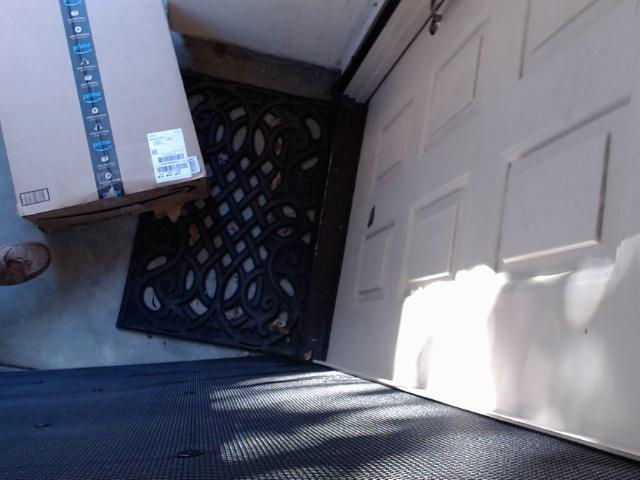box: (0, 0, 279, 269)
